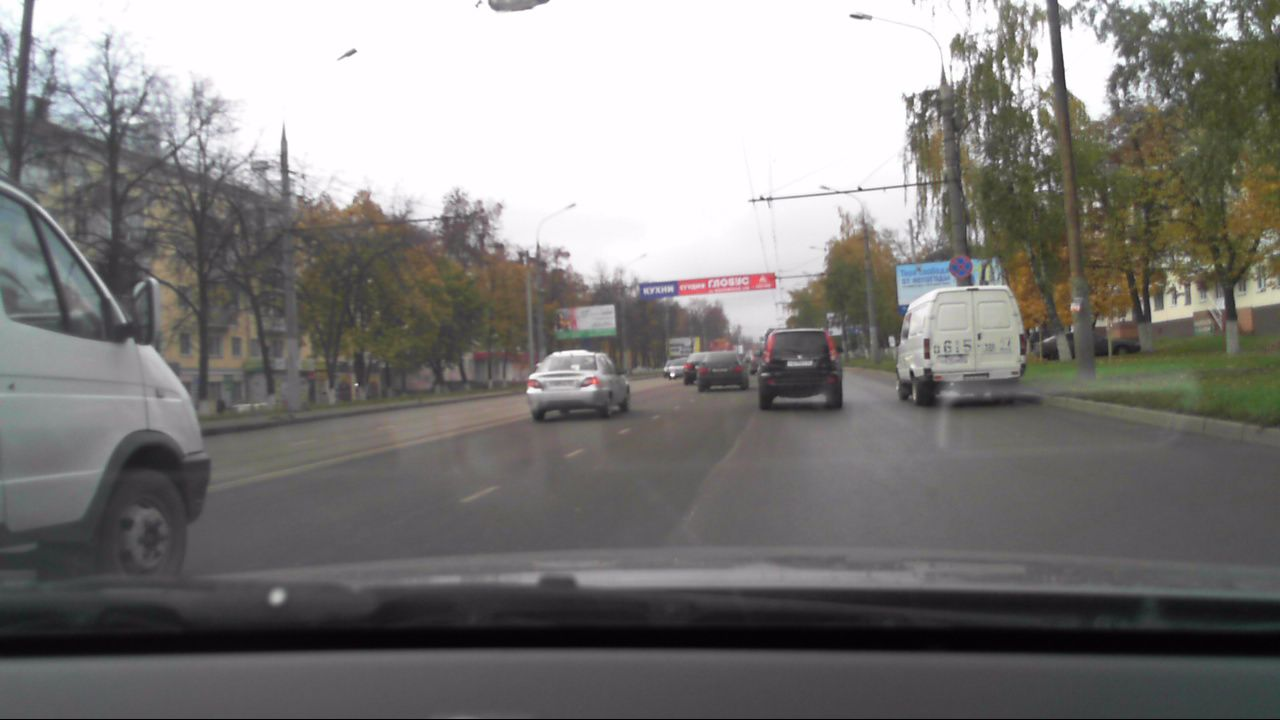No Parking: (948, 254, 977, 281)
